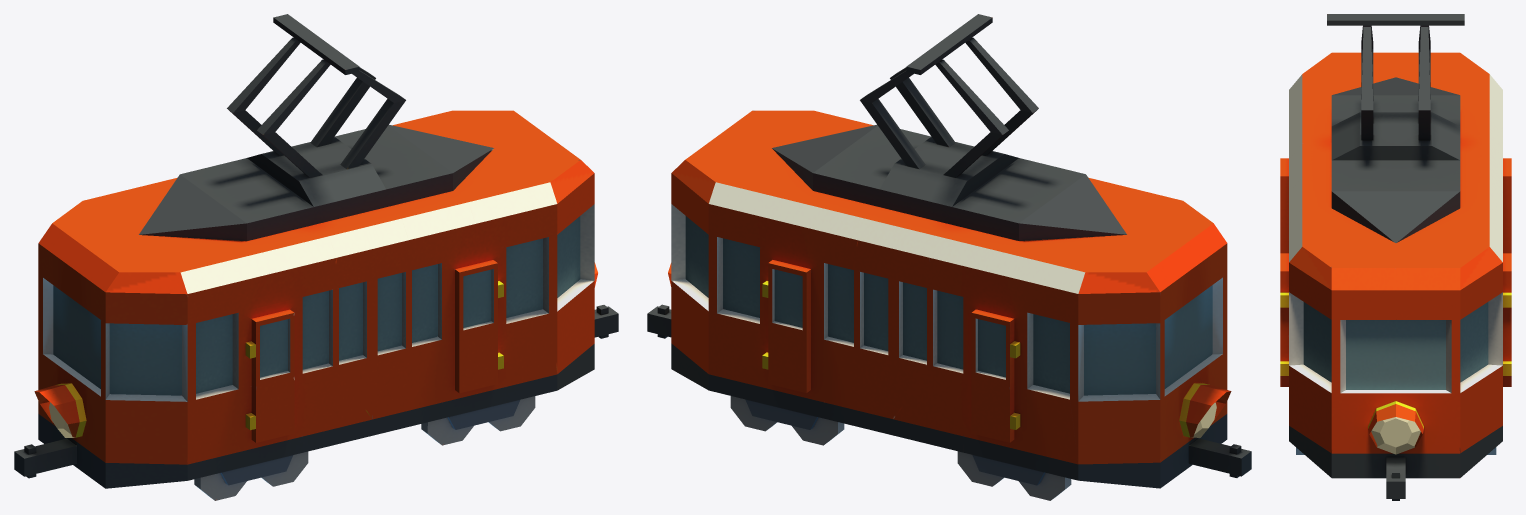
File: PUSHILIN_Tram.obj
3 renders of one model, left to right at view 1: azimuth 30°, elevation 25°; view 2: azimuth 150°, elevation 25°; view 3: azimuth 270°, elevation 25°, orthographic. The views are drawn at different scales.
Visible parts, largest first — view 1: PUSHILIN_Tram_Cube.009; view 2: PUSHILIN_Tram_Cube.009; view 3: PUSHILIN_Tram_Cube.009.
Boxes of the visible parts, left/top/right/bottom form: PUSHILIN_Tram_Cube.009: left=14, top=14, right=618, bottom=500; PUSHILIN_Tram_Cube.009: left=647, top=14, right=1251, bottom=500; PUSHILIN_Tram_Cube.009: left=1280, top=14, right=1511, bottom=500.
Size of the model in its own units: 4.15 by 2.56 by 1.46.
Materials: 1 (1 with a texture image).
